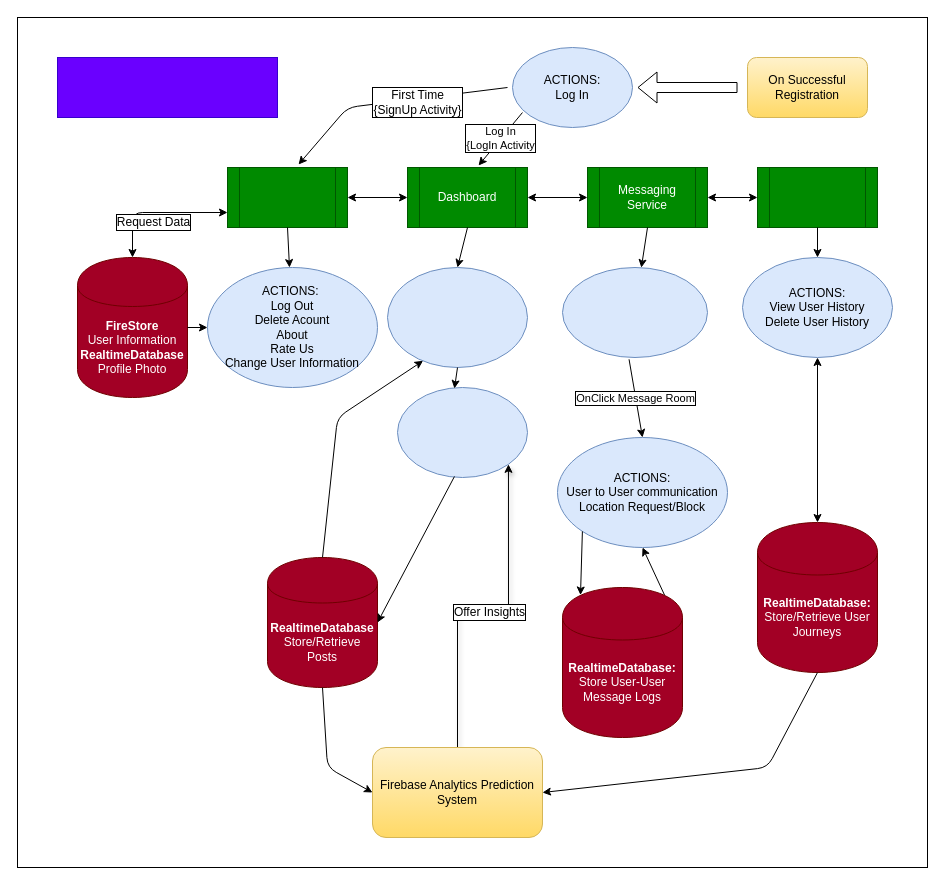
The diagram is 945 pixels wide and 885 high, and some of its shapes have lost their labels. Each missing label, with the centre of its shape:
"ACTIONS: View Carpool Posts Accept Carpool Offer Create Carpool Post" belongs at pixel 457 317.
"ACTIONS: View Known Users Click on Message Room" belongs at pixel 635 312.
"Clever Carpooling Main System Architecture" belongs at pixel 167 87.
"Create Carpool Post Type= OFFER || Request" belongs at pixel 462 432.
"Home Profile" belongs at pixel 287 197.
"User Statistics" belongs at pixel 817 197.
